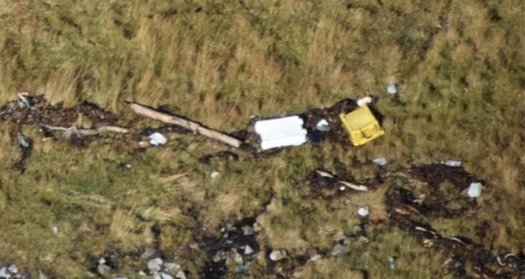cuboid: (248, 109, 312, 152), (334, 102, 390, 149)
scattered_barrel: (250, 74, 493, 221)
straight_bar: (127, 101, 245, 150)
white_in_green: (134, 119, 182, 157)
